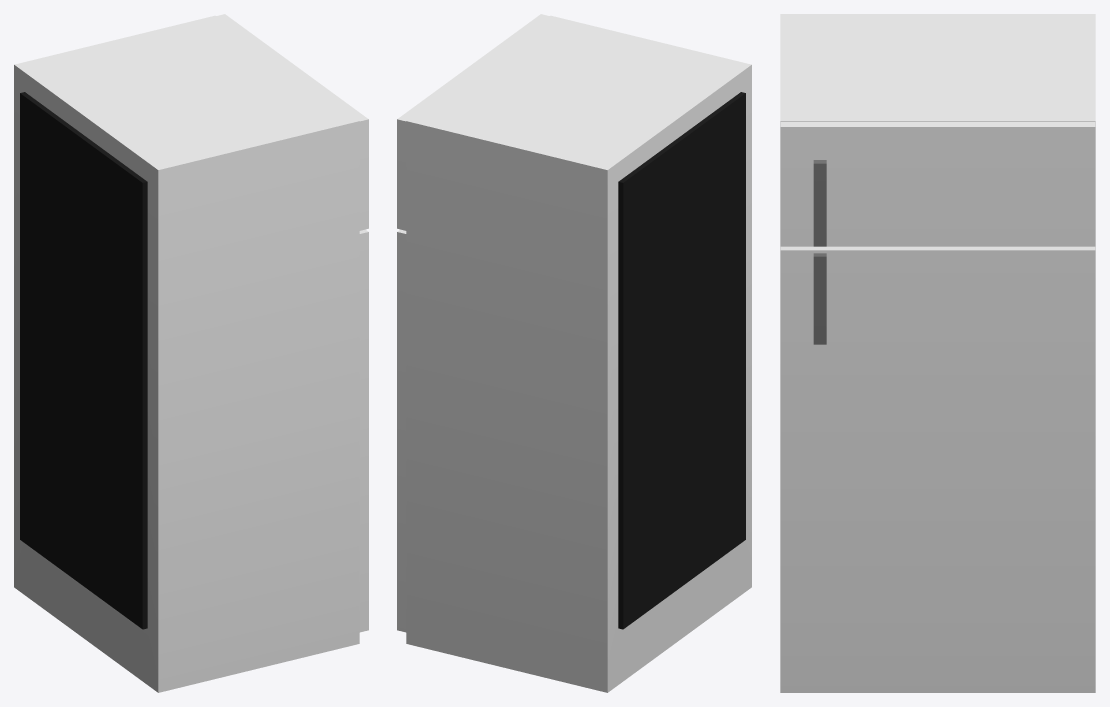
Rendered from Fridge.fbx.
3 renders of one model, left to right at view 1: azimuth 30°, elevation 25°; view 2: azimuth 150°, elevation 25°; view 3: azimuth 270°, elevation 25°, orthographic. The views are drawn at different scales.
Parts seen in each view (by area): view 1: Fridge; view 2: Fridge; view 3: Fridge.
Part boxes in pixels (x1=…): Fridge: x1=14, y1=14, x2=368, y2=692; Fridge: x1=397, y1=14, x2=751, y2=692; Fridge: x1=780, y1=14, x2=1095, y2=692.
Bounding box in the file's own units: 88.99 × 200 × 100.
